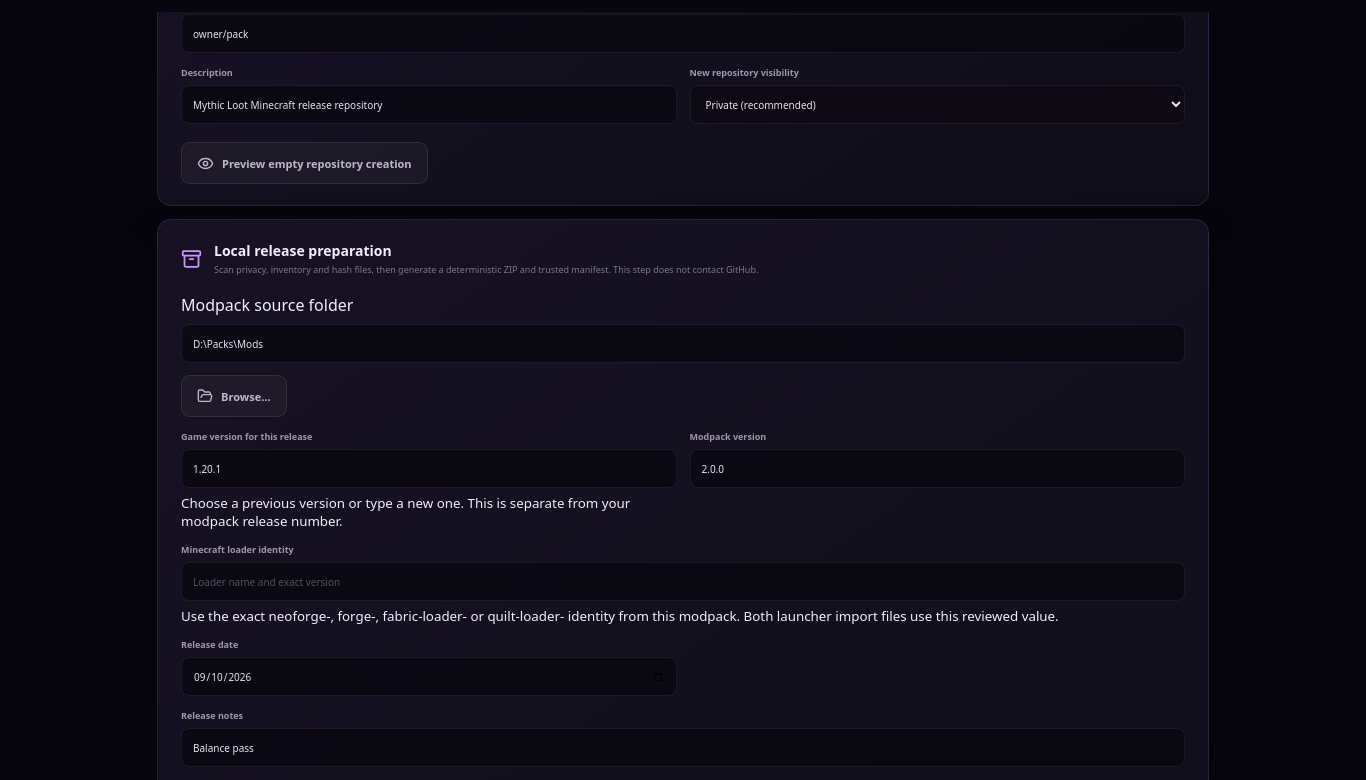
Test: Per-release publishing choices › requires an explicit Minecraft loader instead of silently using NeoForge
(page scrolled)
Expected: the field labelled "Game version for this release" holds "1.20.1", [181,449,676,488]
Type "fabric-loader-0.16.10" into the field labelled "Minecraft loader identity" at coordinates (683, 582), box [181,562,1185,601]
(page scrolled)
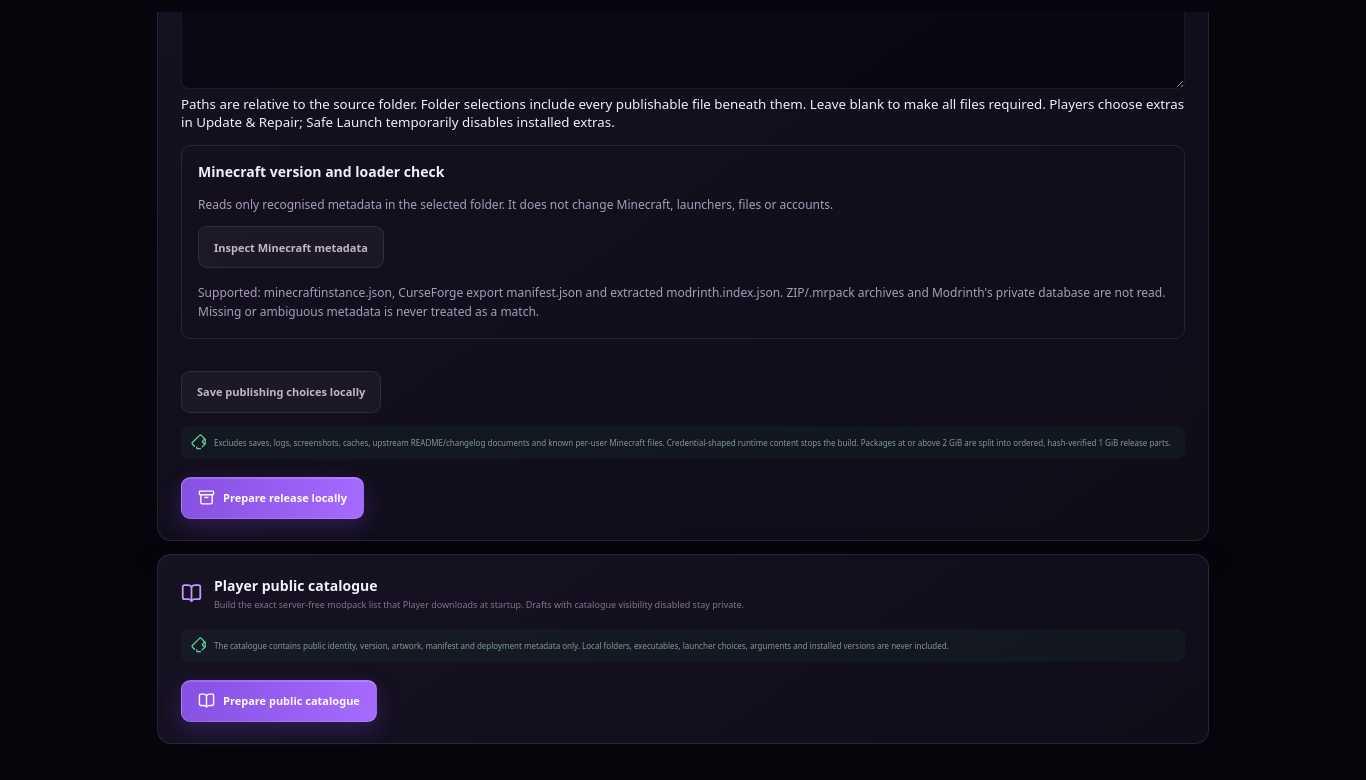
Expected: the button "Prepare release locally" is enabled, [181,477,364,519]
